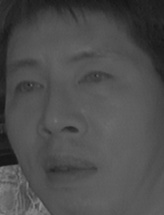eye: (74, 68, 114, 91), (9, 78, 50, 100)
mouth: (40, 151, 97, 186)
